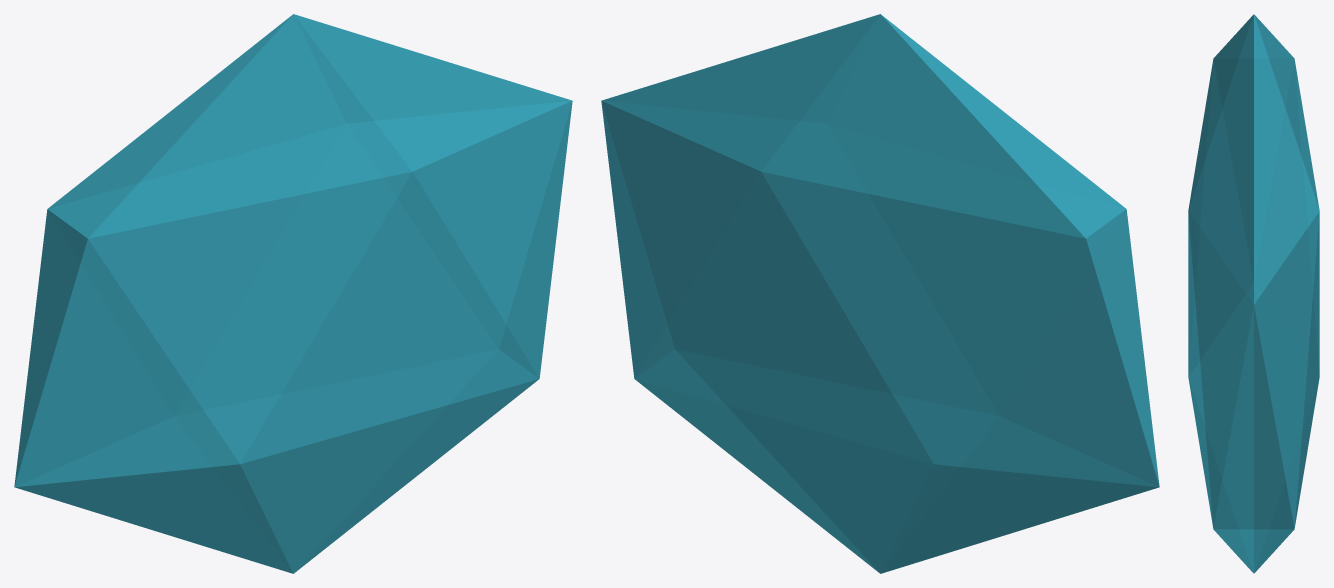
File: Damage_LensChip.glb
3 views of the same model, side by side, from view 1: azimuth 30°, elevation 25°; view 2: azimuth 150°, elevation 25°; view 3: azimuth 270°, elevation 25° (orthographic).
Parts seen in each view (by area): view 1: Damage_LensChip; view 2: Damage_LensChip; view 3: Damage_LensChip.
Boxes of the visible parts, x1,y1,x2,y2 form: Damage_LensChip: [14, 14, 572, 573]; Damage_LensChip: [601, 14, 1159, 573]; Damage_LensChip: [1188, 14, 1319, 573].
Size of the model in its own units: 0.1252 by 0.12 by 0.0255.
